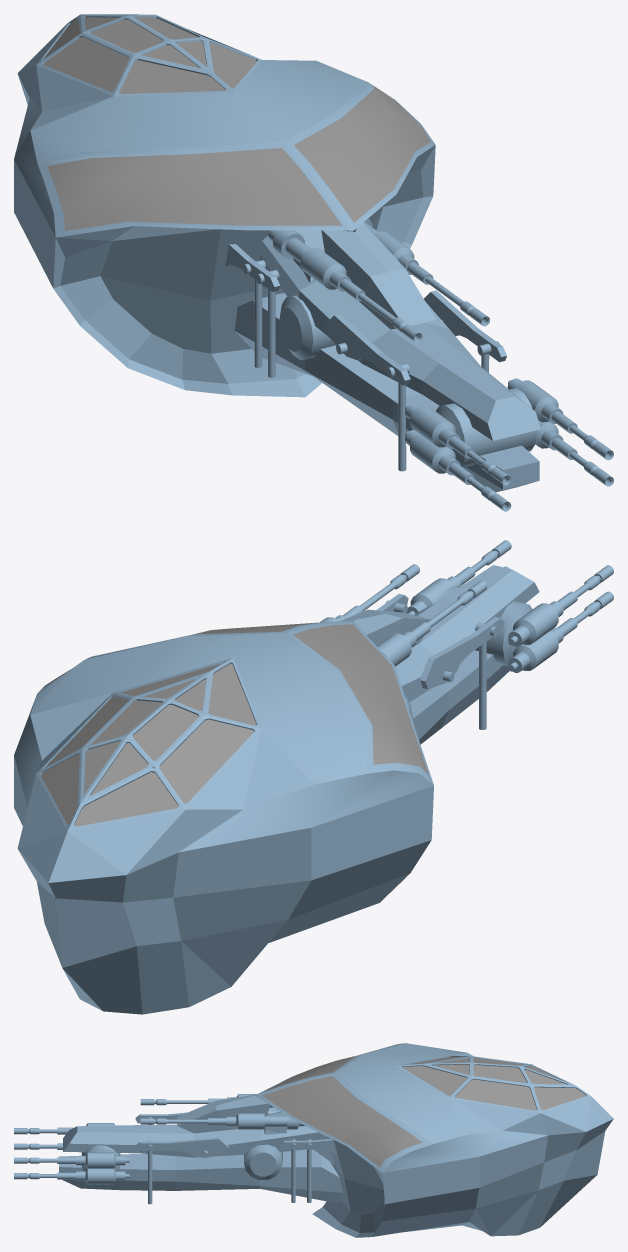
Rendered from ship.FBX.
The picture shows the model from 3 angles, top to bottom: view 1: azimuth 30°, elevation 25°; view 2: azimuth 150°, elevation 25°; view 3: azimuth 270°, elevation 25°; orthographic projection. The views are drawn at different scales.
Parts seen in each view (by area): view 1: cabin, gun header, gun pitcher, gun 2, gun 3; view 2: cabin, gun header, gun pitcher, gun 2, gun 3; view 3: cabin, gun header, gun pitcher, gun 3, gun 2.
Boxes of the visible parts, <box> form: cabin: <box>14,14,435,397</box>; gun header: <box>225,223,540,492</box>; gun pitcher: <box>405,378,613,511</box>; gun 2: <box>268,230,422,342</box>; gun 3: <box>343,218,489,326</box>; cabin: <box>14,620,433,1014</box>; gun header: <box>340,565,539,744</box>; gun pitcher: <box>406,540,613,672</box>; gun 2: <box>377,580,487,666</box>; gun 3: <box>320,564,419,622</box>; cabin: <box>255,1043,613,1237</box>; gun header: <box>59,1094,342,1204</box>; gun pitcher: <box>14,1123,129,1184</box>; gun 3: <box>140,1113,305,1134</box>; gun 2: <box>140,1094,279,1113</box>.
Size of the model in its own units: 0.1109 by 0.2581 by 0.076.
